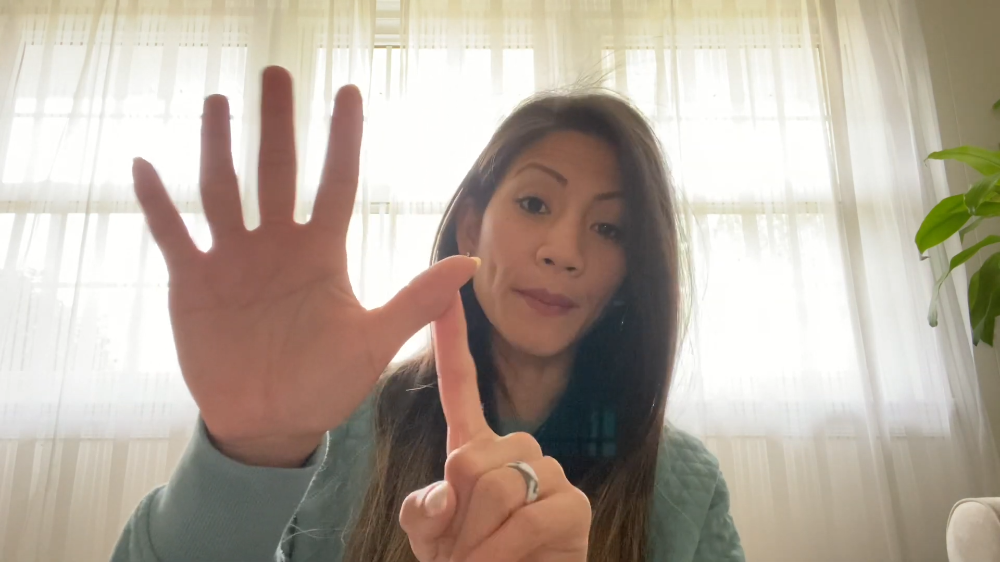hello: (134, 64, 472, 440)
